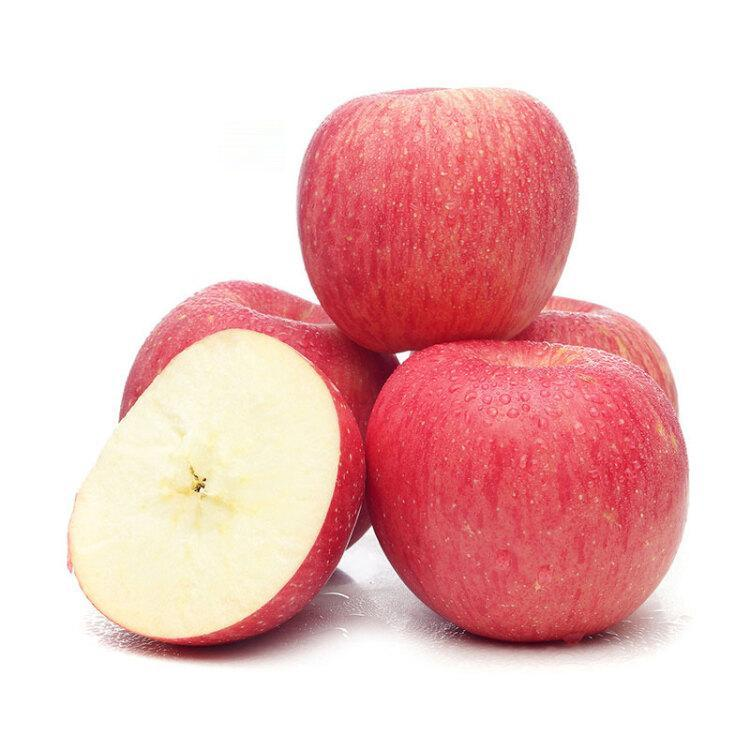apple: (368, 343, 696, 650), (302, 85, 595, 357)
